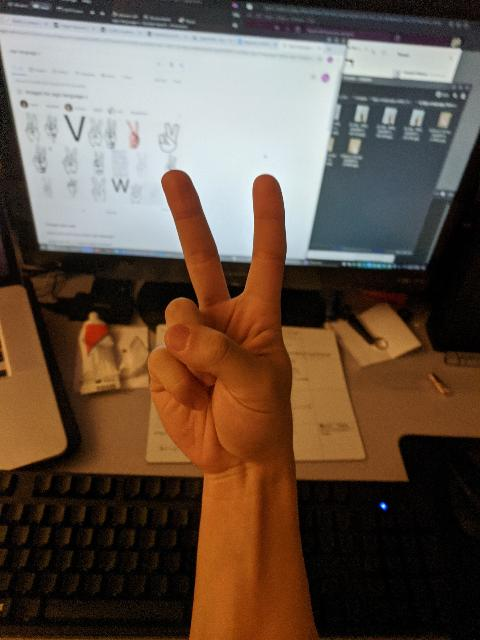V: (145, 164, 305, 476)
